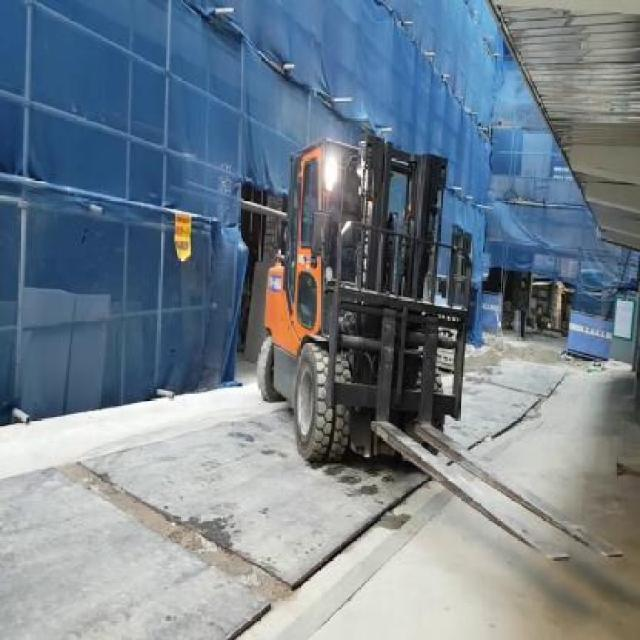forklift: (256, 145, 462, 467)
